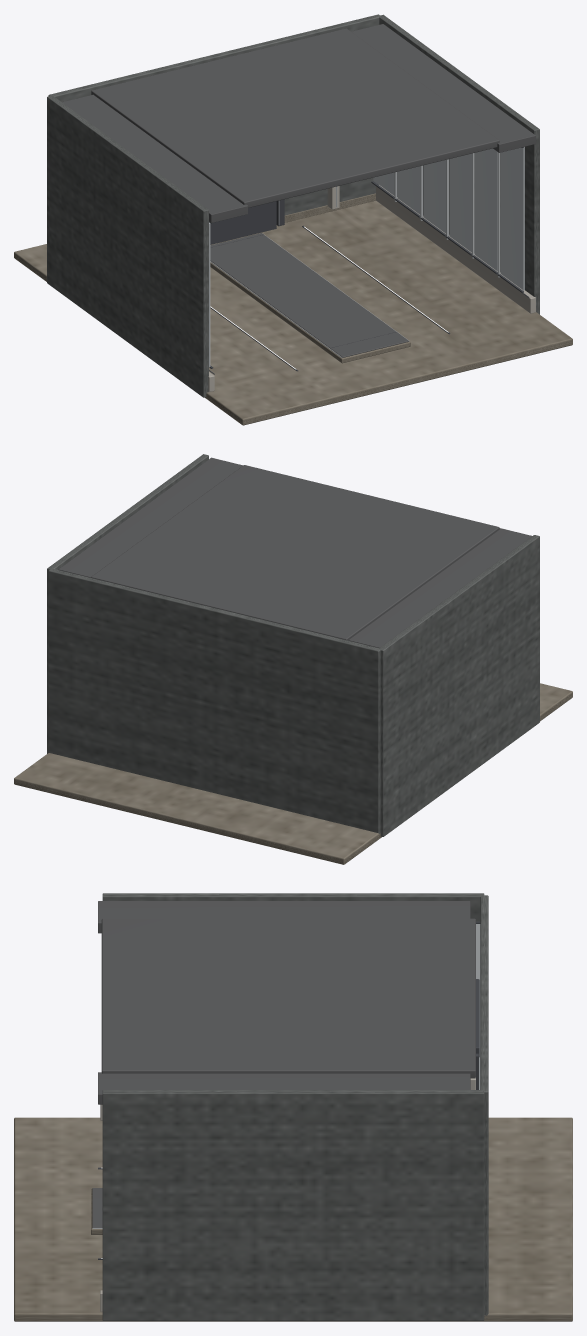
The picture shows the model from 3 angles, top to bottom: view 1: azimuth 30°, elevation 25°; view 2: azimuth 150°, elevation 25°; view 3: azimuth 270°, elevation 25°; orthographic projection. The views are drawn at different scales.
Visible parts, largest first — view 1: R03 | inset acoustic ceiling, Room floor, Left wall, R03 | long stone catwalk tread, R03 | side soffit.001, R03 | side soffit, Right wall, Back wall, R03 | floor-to-ceiling smoked mirror bay.006, R03 | continuous lower stone plinth.001, R03 | floor-to-ceiling smoked mirror bay.007, R03 | floor-to-ceiling smoked mirror bay.008 (+5 smaller); view 2: Back wall, R03 | inset acoustic ceiling, Left wall, Room floor, R03 | side soffit.001, R03 | side soffit, Right wall; view 3: Right wall, R03 | inset acoustic ceiling, Room floor, R03 | side soffit, R03 | side soffit.001, Left wall, Back wall.
Boxes of the visible parts, x1,y1,x2,y2 form: R03 | inset acoustic ceiling: (91, 28, 499, 207); Room floor: (14, 200, 572, 425); Left wall: (47, 95, 208, 397); R03 | long stone catwalk tread: (210, 233, 408, 357); R03 | side soffit.001: (351, 24, 535, 152); R03 | side soffit: (62, 94, 247, 222); Right wall: (379, 14, 539, 314); Back wall: (48, 14, 380, 215); R03 | floor-to-ceiling smoked mirror bay.006: (500, 147, 524, 290); R03 | continuous lower stone plinth.001: (376, 185, 535, 313); R03 | floor-to-ceiling smoked mirror bay.007: (475, 148, 497, 271); R03 | floor-to-ceiling smoked mirror bay.008: (449, 153, 471, 252); Back wall: (48, 568, 380, 833); R03 | inset acoustic ceiling: (91, 465, 499, 640); Left wall: (379, 535, 539, 836); Room floor: (14, 683, 572, 864); R03 | side soffit.001: (58, 457, 242, 577); R03 | side soffit: (349, 528, 531, 647); Right wall: (47, 454, 208, 753); Right wall: (102, 1090, 484, 1320); R03 | inset acoustic ceiling: (101, 918, 475, 1078); Room floor: (14, 1117, 572, 1321); R03 | side soffit: (98, 901, 470, 933); R03 | side soffit.001: (98, 1072, 470, 1104); Left wall: (102, 893, 484, 921); Back wall: (480, 895, 488, 1318).
Size of the model in its own units: 10.18 by 5.47 by 12.
11 materials, 5 textured.
